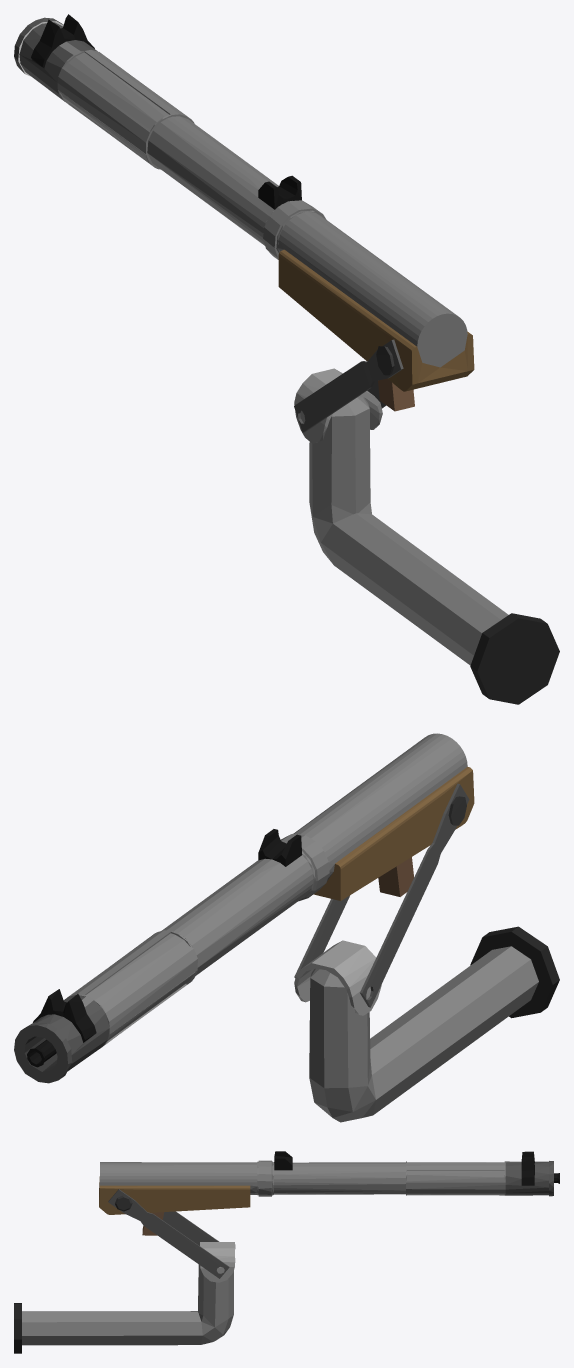
The model's file is Makeshift Turret.fbx.
The picture shows the model from 3 angles, top to bottom: view 1: azimuth 30°, elevation 25°; view 2: azimuth 150°, elevation 25°; view 3: azimuth 270°, elevation 25°; orthographic projection. The views are drawn at different scales.
Parts seen in each view (by area): view 1: TopOfPole.001, Pole.001; view 2: TopOfPole.001, Pole.001; view 3: TopOfPole.001, Pole.001.
Boxes of the visible parts, x1,y1,x2,y2 form: TopOfPole.001: (14, 14, 474, 443); Pole.001: (309, 397, 559, 704); TopOfPole.001: (14, 733, 474, 1083); Pole.001: (309, 926, 559, 1122); TopOfPole.001: (99, 1151, 559, 1282); Pole.001: (14, 1264, 233, 1353).
Size of the model in its own units: 43.45 by 176 by 440.
